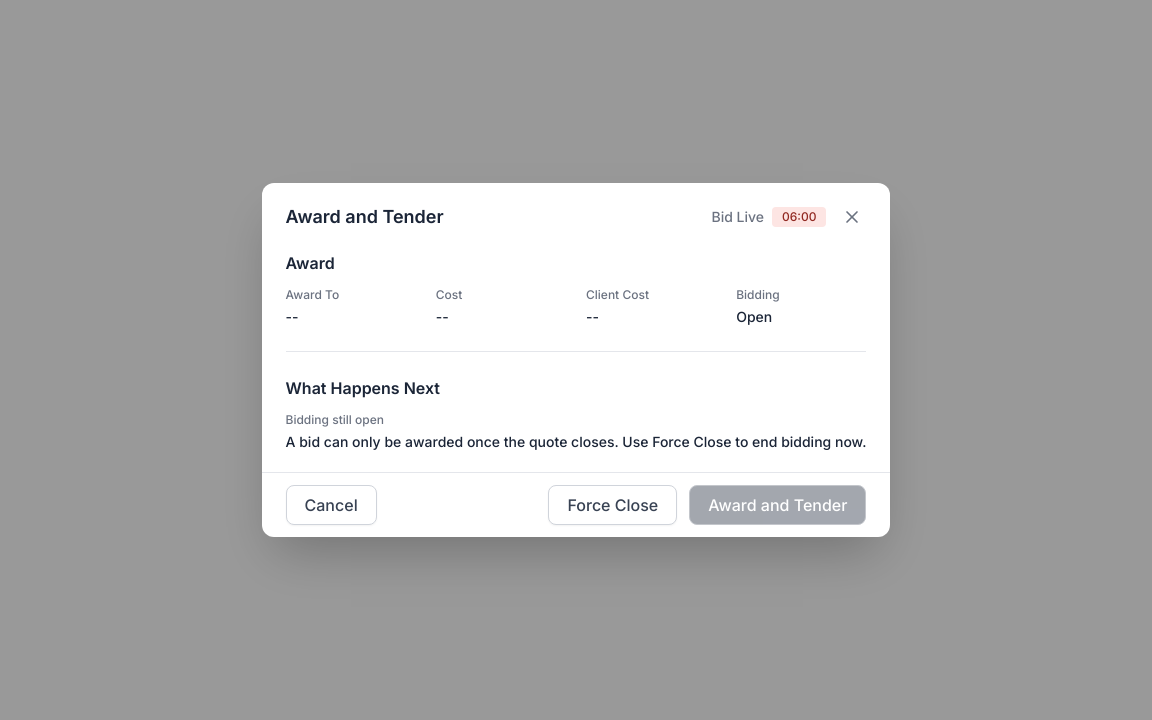
AwardModal — SPB-75 force-close threshold › leaves force-close enabled when more than 5 minutes remain
The width and height of the screenshot is (1152, 720).
Click the button "Force Close". click: click(613, 505)
box: [548,485,677,525]
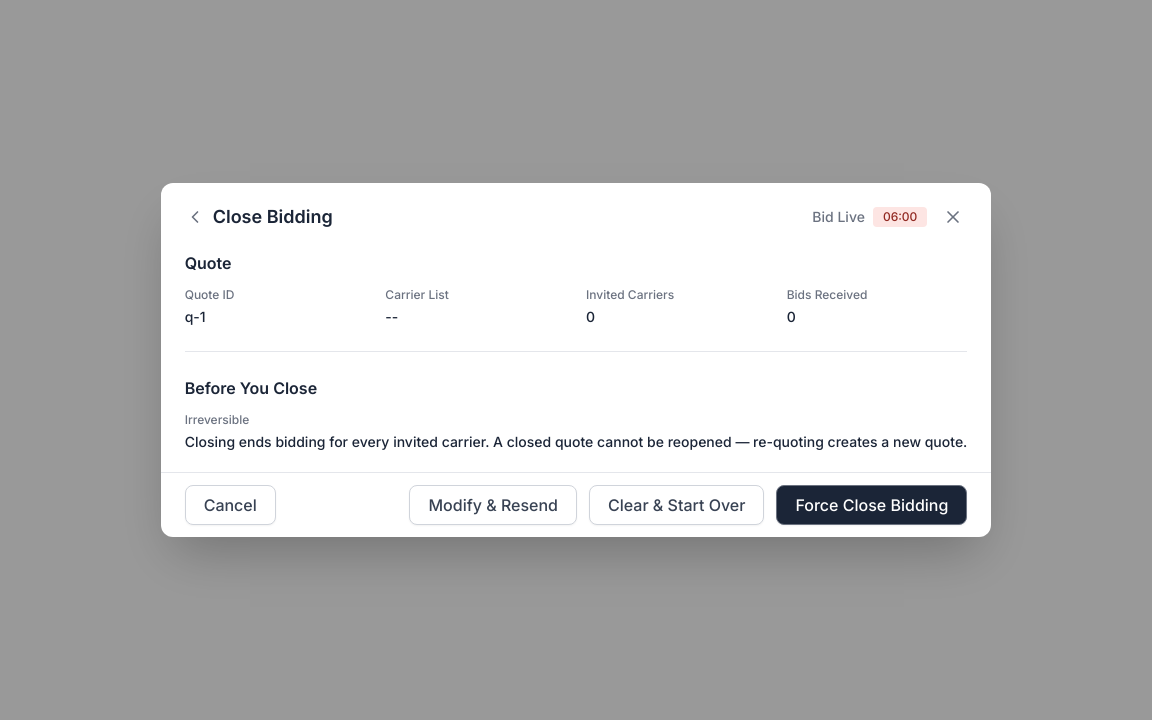
Expected: the button "Force Close Bidding" is enabled, [776,485,967,525]
